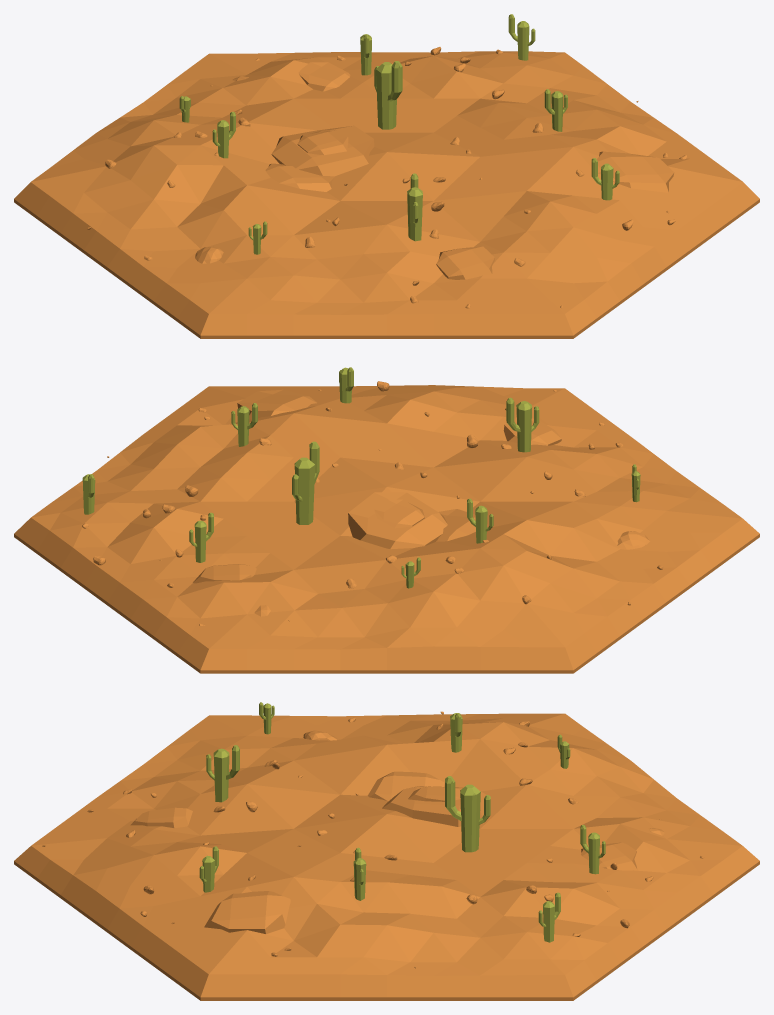
Rendered from subtropicaldesert.glb.
The picture shows the model from 3 angles, top to bottom: view 1: azimuth 30°, elevation 25°; view 2: azimuth 150°, elevation 25°; view 3: azimuth 270°, elevation 25°; orthographic projection.
Parts seen in each view (by area): view 1: land, big_details, small_details; view 2: land, big_details, small_details; view 3: land, big_details, small_details.
Part boxes in pixels (x1=…): land: x1=14, y1=51, x2=759, y2=338; big_details: x1=179, y1=14, x2=674, y2=279; small_details: x1=87, y1=47, x2=686, y2=308; land: x1=14, y1=385, x2=759, y2=673; big_details: x1=82, y1=367, x2=640, y2=588; small_details: x1=82, y1=381, x2=663, y2=625; land: x1=14, y1=713, x2=759, y2=1000; big_details: x1=130, y1=702, x2=636, y2=942; small_details: x1=42, y1=711, x2=703, y2=968.
Bounding box in the file's own units: 1.73 × 0.3178 × 2.
